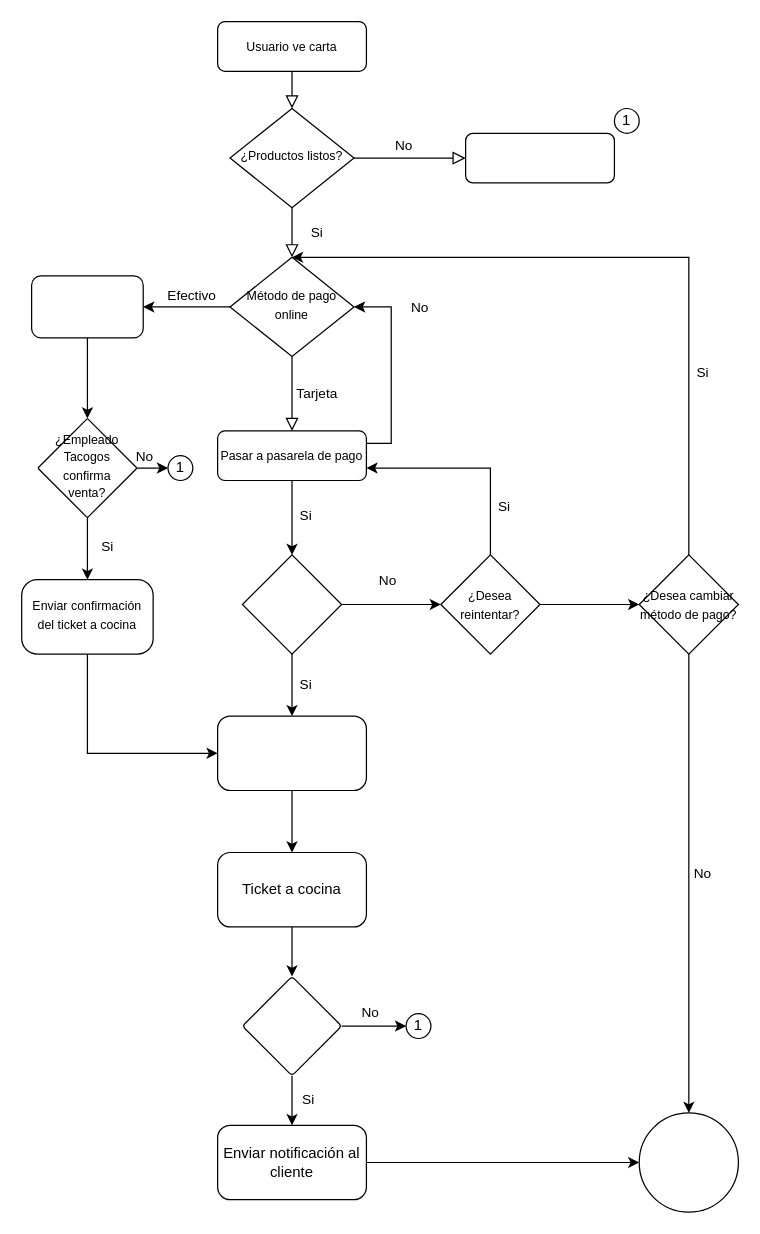
Image size: 760x1234. Some labels were removed from this diagram. Each missing label, with the centre of its shape:
"Fin" goes at pixel 688 1162.
"Mostrar nº pedido al usuario" goes at pixel 291 752.
"Mostrar recibo por pantalla a pagar" goes at pixel 86 306.
"Sistema en espera" goes at pixel 539 157.
"¿Cocina termino comanda?" goes at pixel 291 1025.
"¿Tarjeta aceptada?" goes at pixel 291 604.
